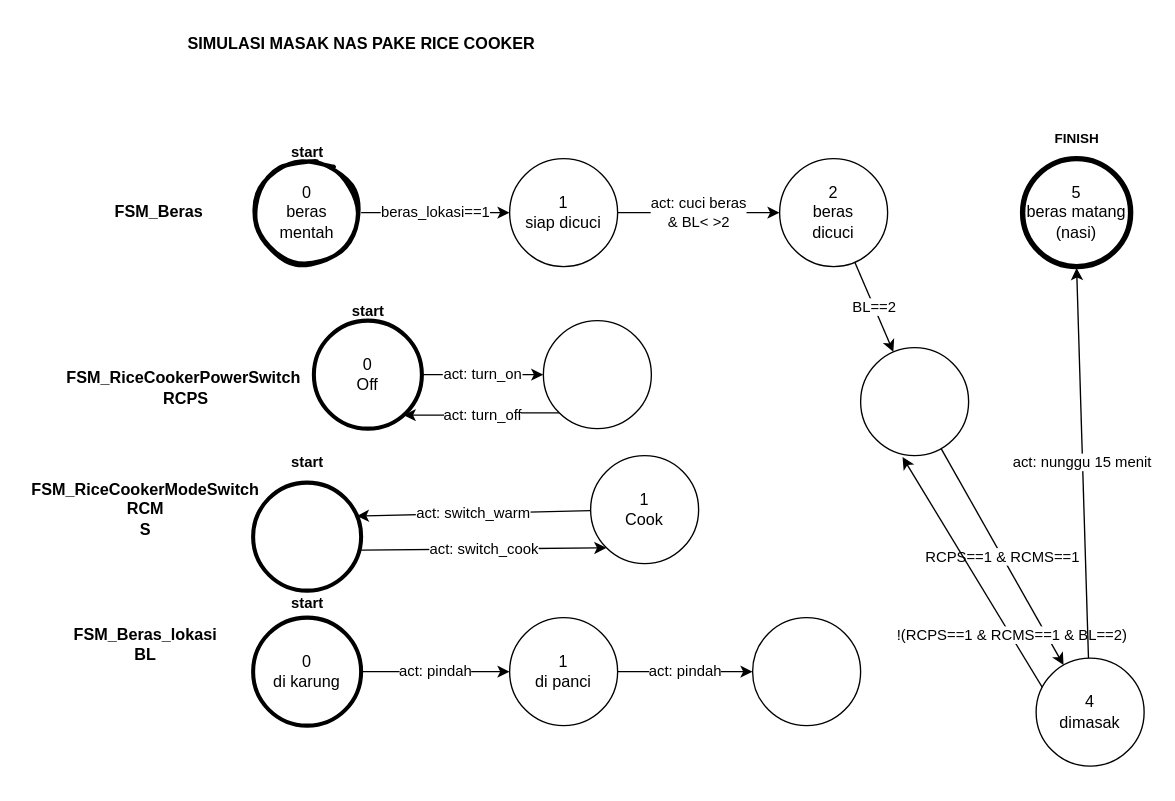
The diagram is 1175 pixels wide and 801 high, and some of its shapes have lost their labels. The shapes that lost their labels are listed below. From the top down, each one's centre as x and y in pixels, then its label:
At point 596,374: "1 On".
At point 914,401: "3 siap dimasak".
At point 306,536: "0 Warm".
At point 806,671: "2 di rice cooker".
